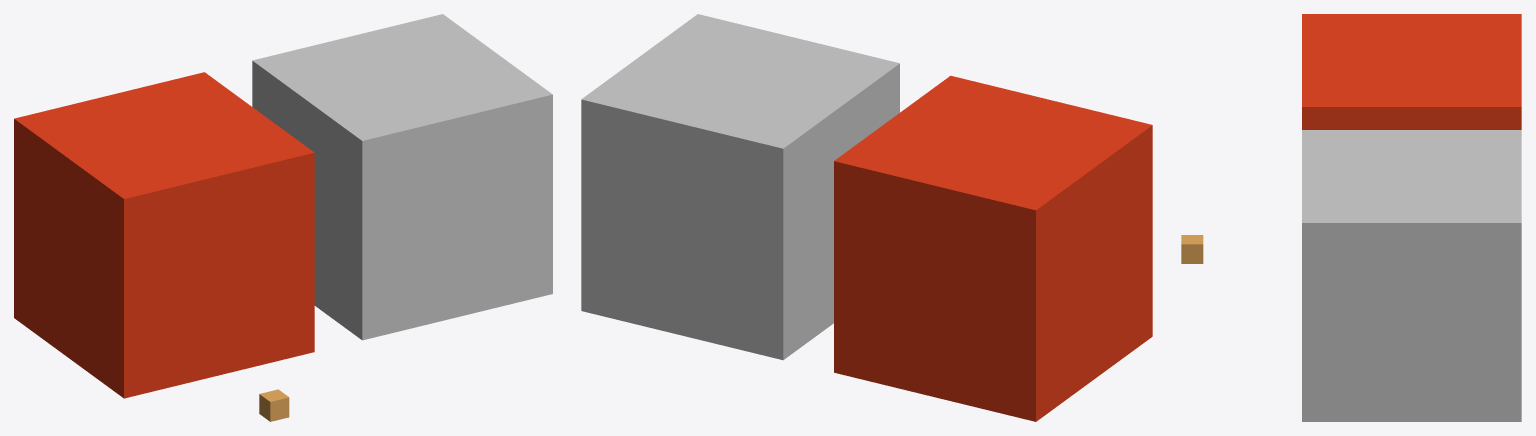
File: baked.glb
3 views of the same model, side by side, from view 1: azimuth 30°, elevation 25°; view 2: azimuth 150°, elevation 25°; view 3: azimuth 270°, elevation 25° (orthographic). The views are drawn at different scales.
Parts seen in each view (by area): view 1: module_0_0_wall.001, module_0_0_prop.001; view 2: module_0_0_wall.001; view 3: module_0_0_wall.001, module_0_0_prop.001.
Boxes of the visible parts, <box> form: module_0_0_wall.001: <box>14,14,552,398</box>; module_0_0_prop.001: <box>259,389,289,421</box>; module_0_0_wall.001: <box>581,14,1152,421</box>; module_0_0_wall.001: <box>1302,14,1521,421</box>; module_0_0_prop.001: <box>1181,235,1203,263</box>.
Size of what is drawn, in the model's own units: 4.5 by 2 by 3.1.
Materials: 2 (2 with a texture image).
